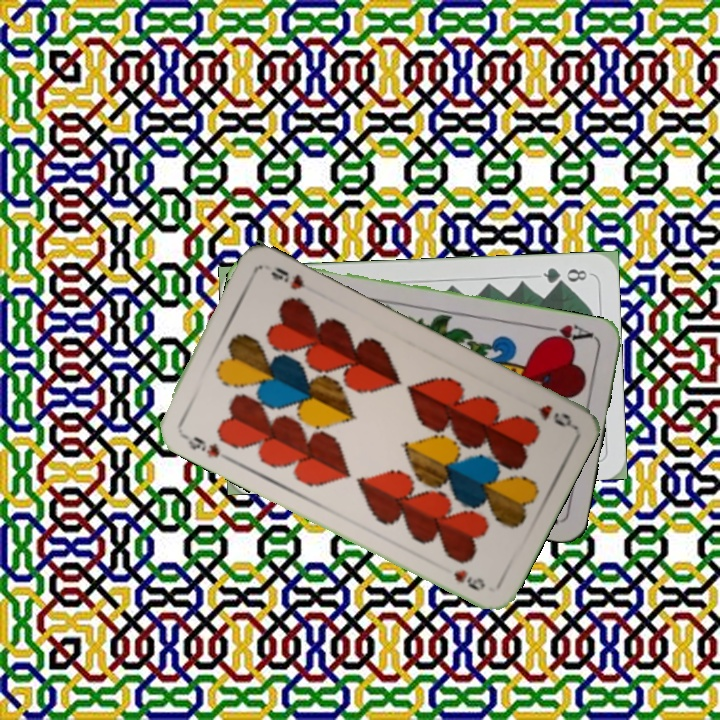G8: (539, 263, 590, 287)
H9: (177, 429, 232, 463), (533, 400, 575, 430)
HA: (537, 320, 596, 347)
